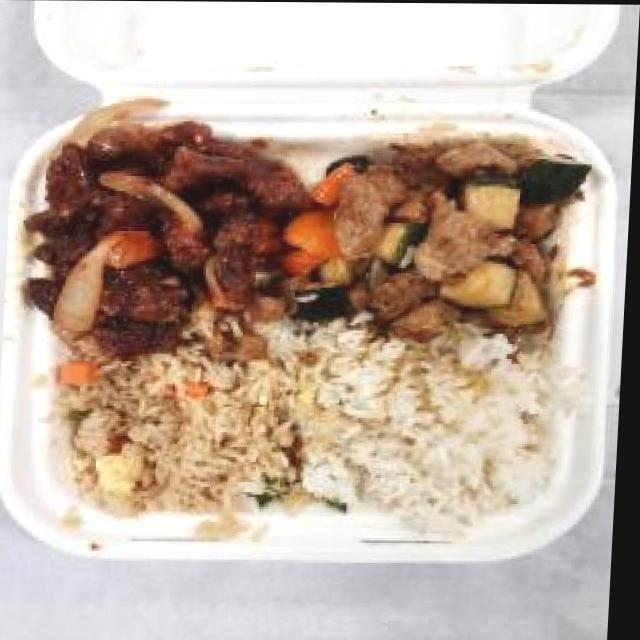Beijing Beef: (24, 108, 307, 353)
Fried Rice: (54, 338, 324, 525)
Kung Pao Chicken: (301, 137, 592, 351)
White Steamed Rice: (316, 340, 574, 534)
